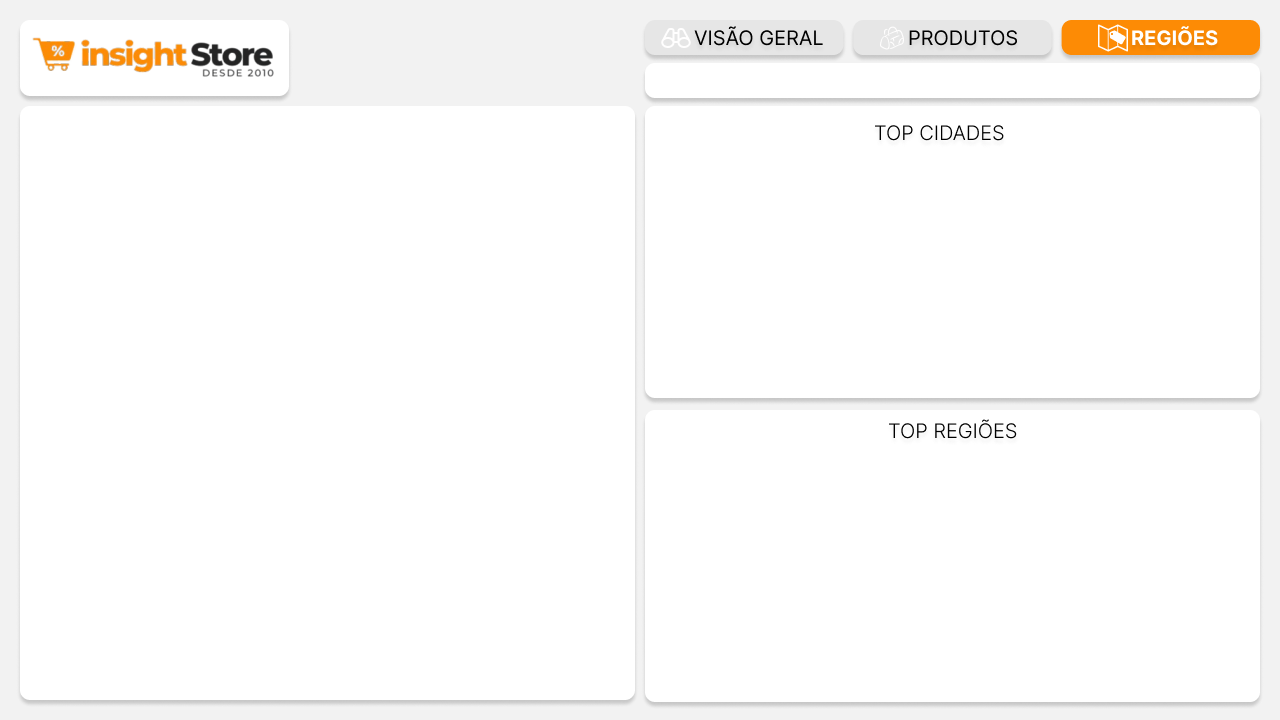

Layout of this report page (visuals, bound fields, positions):
{"tool":"powerbi","page":{"name":"REGIÕES","canvas":[1280,720],"ordinal":2},"visuals":[{"type":"map","fields":{"Category":["vendas_ficticias_lojas_brasil123.store_city"],"Size":["Tabela_Medidas.Total_faturado"]},"box":[23,106,607,587],"z":0},{"type":"barChart","fields":{"Category":["vendas_ficticias_lojas_brasil123.store_region"],"Y":["Tabela_Medidas.Total_faturado"]},"box":[640,422,614,272],"z":1000},{"type":"barChart","fields":{"Category":["vendas_ficticias_lojas_brasil123.store_city"],"Y":["Tabela_Medidas.Total_faturado"]},"box":[640,128,614,272],"z":2000},{"type":"textbox","box":[673,63,107,34],"z":3000},{"type":"textbox","box":[880.4,62.8,47.5,30.6],"z":4000},{"type":"textbox","box":[1088.6,62.8,56.7,39.8],"z":5000},{"type":"slicer","fields":{"Values":["vendas_ficticias_lojas_brasil123.sales_channel"]},"box":[1131.7,53.3,126.7,48.3],"z":6000},{"type":"slicer","fields":{"Values":["vendas_ficticias_lojas_brasil123.store_city"]},"box":[905,53.3,136.7,48.3],"z":7000},{"type":"slicer","fields":{"Values":["vendas_ficticias_lojas_brasil123.order_date.Variation.Hierarquia de datas.Mês"]},"box":[708.3,53.3,126.7,48.3],"z":8000},{"type":"actionButton","box":[640,13.3,206.7,40],"z":9000},{"type":"actionButton","box":[856.7,13.3,185,40],"z":10000}]}

Visuals, with their boxes in screenshot pixels (x1, y1, x2, y2), scaled from the page's 1280x720 canvas onto the 1280x720 screenshot:
map - vendas_ficticias_lojas_brasil123.store_city x Tabela_Medidas.Total_faturado: [23, 106, 630, 693]
barChart - vendas_ficticias_lojas_brasil123.store_region x Tabela_Medidas.Total_faturado: [640, 422, 1254, 694]
barChart - vendas_ficticias_lojas_brasil123.store_city x Tabela_Medidas.Total_faturado: [640, 128, 1254, 400]
textbox: [673, 63, 780, 97]
textbox: [880, 63, 928, 93]
textbox: [1089, 63, 1145, 103]
slicer - vendas_ficticias_lojas_brasil123.sales_channel: [1132, 53, 1258, 102]
slicer - vendas_ficticias_lojas_brasil123.store_city: [905, 53, 1042, 102]
slicer - vendas_ficticias_lojas_brasil123.order_date.Variation.Hierarquia de datas.Mês: [708, 53, 835, 102]
actionButton: [640, 13, 847, 53]
actionButton: [857, 13, 1042, 53]
